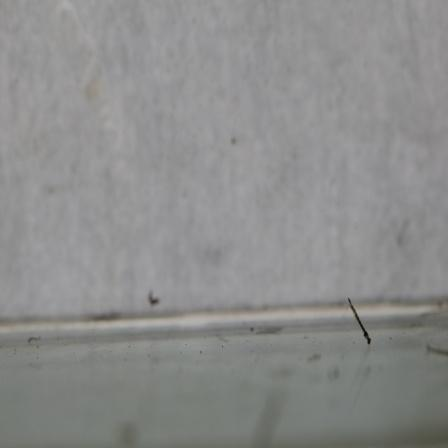Jentik-Nyamuk: (347, 294, 374, 346)
